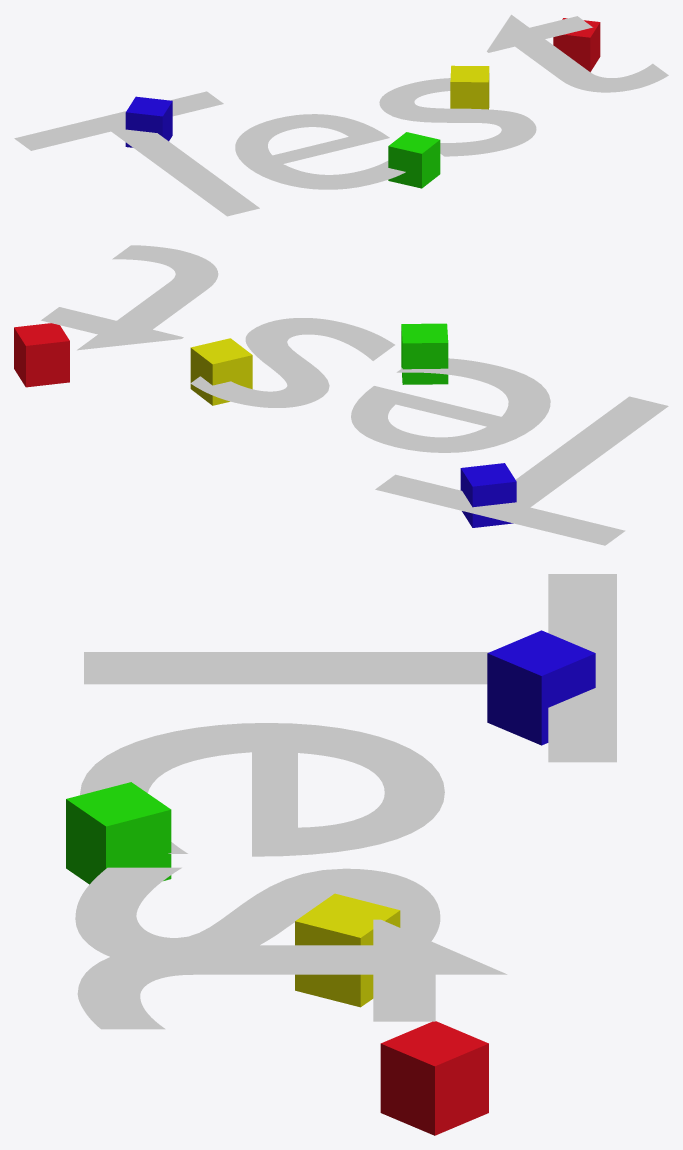
3 views of the same model, one above another, from view 1: azimuth 30°, elevation 25°; view 2: azimuth 150°, elevation 25°; view 3: azimuth 270°, elevation 25° (orthographic). The views are drawn at different scales.
Visible parts, largest first — view 1: Text, Text.002, Text.003, Text.001, Cube, Cube.001, Cube.002, Cube.003; view 2: Text.002, Text, Text.003, Text.001, Cube.003, Cube.001, Cube, Cube.002; view 3: Text.002, Text, Text.001, Text.003, Cube.003, Cube.002, Cube, Cube.001.
Part boxes in pixels (box(x1,y1,x2,y2)): Text: box(235, 114, 405, 189); Text.002: box(14, 91, 259, 216); Text.003: box(379, 78, 536, 156); Text.001: box(487, 14, 668, 92); Cube: box(388, 132, 440, 188); Cube.001: box(450, 65, 489, 109); Cube.002: box(125, 96, 172, 147); Cube.003: box(553, 18, 600, 72); Text.002: box(375, 396, 668, 545); Text: box(351, 358, 550, 452); Text.003: box(190, 318, 394, 407); Text.001: box(41, 245, 218, 350); Cube.003: box(14, 323, 69, 387); Cube.001: box(190, 338, 252, 405); Cube: box(401, 323, 448, 384); Cube.002: box(460, 463, 516, 527); Text.002: box(84, 574, 616, 762); Text: box(80, 723, 444, 856); Text.001: box(77, 919, 507, 1029); Text.003: box(75, 867, 440, 956); Cube.003: box(380, 1021, 488, 1135); Cube.002: box(487, 630, 595, 745); Cube: box(66, 782, 171, 884); Cube.001: box(295, 893, 400, 1007).
Size of the model in its own units: 3.88 by 0.3195 by 1.71.
